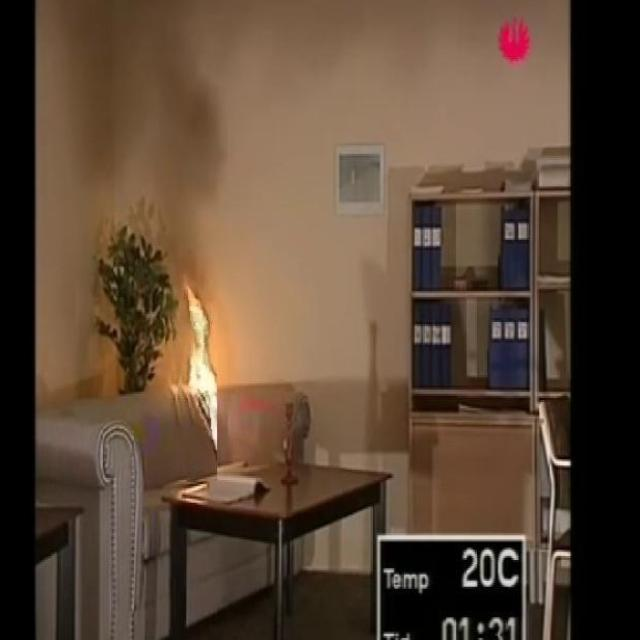fire: (135, 0, 224, 287)
smoke: (184, 272, 219, 453)
